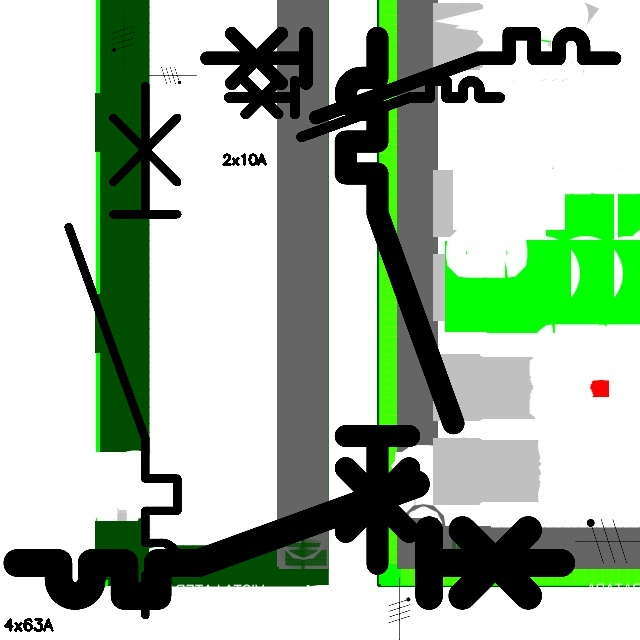interruptor_termomagnetico: (3, 470, 575, 610), (55, 71, 191, 628), (332, 24, 467, 577), (196, 23, 624, 128), (222, 74, 507, 143)
